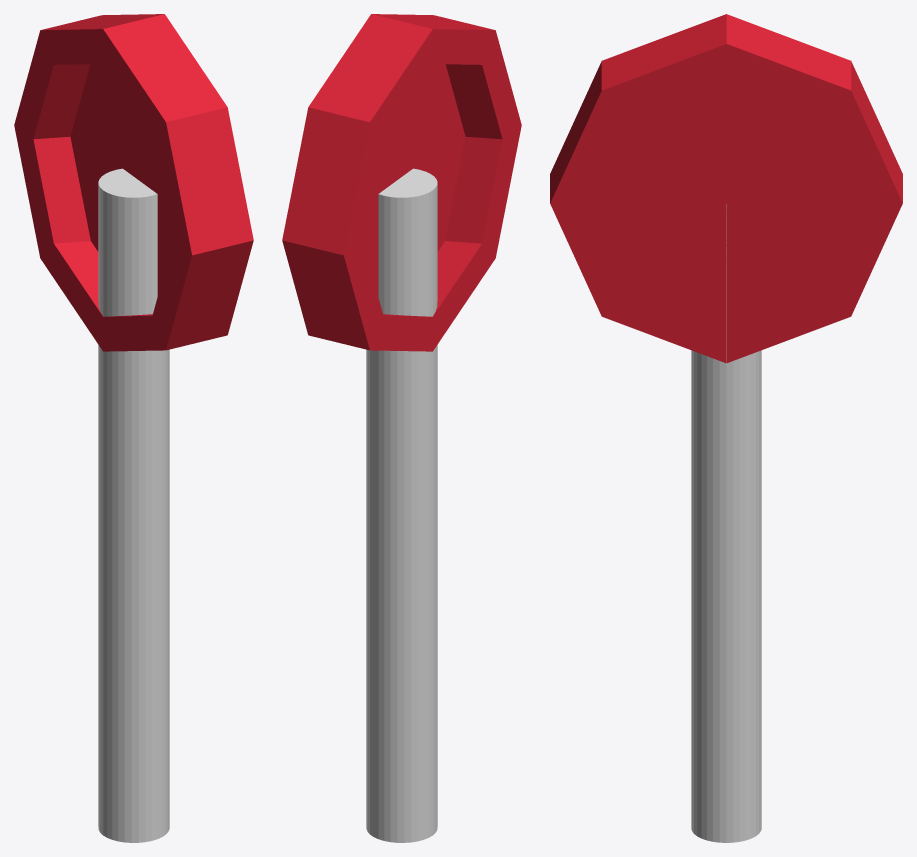
Rendered from StopSign.fbx.
The picture shows the model from 3 angles, left to right: view 1: azimuth 30°, elevation 25°; view 2: azimuth 150°, elevation 25°; view 3: azimuth 270°, elevation 25°; orthographic projection.
Parts seen in each view (by area): view 1: Cylinder.001, Cylinder; view 2: Cylinder.001, Cylinder; view 3: Cylinder.001, Cylinder.
Part boxes in pixels (left/top/right/bottom): Cylinder.001: left=14, top=14, right=253, bottom=351; Cylinder: left=98, top=168, right=169, bottom=842; Cylinder.001: left=282, top=14, right=521, bottom=351; Cylinder: left=366, top=168, right=437, bottom=842; Cylinder.001: left=550, top=14, right=902, bottom=363; Cylinder: left=691, top=204, right=761, bottom=842.
Size of the model in its own units: 10 by 125 by 50.
